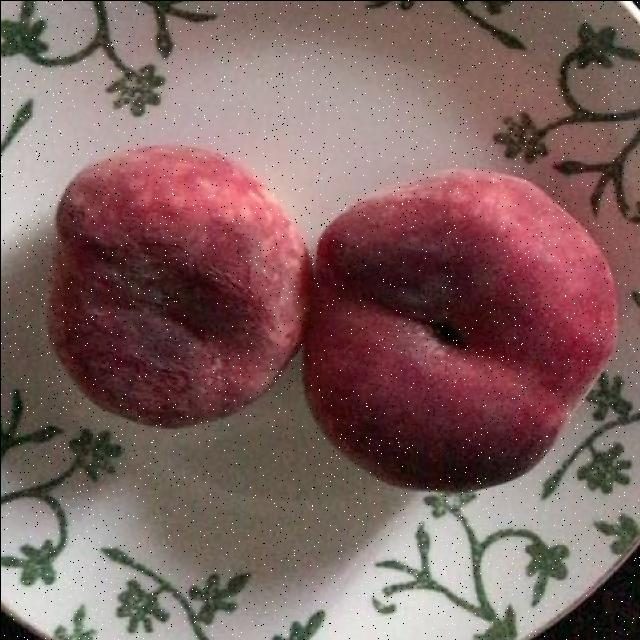peach: (50, 151, 617, 478)
